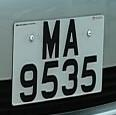3: (61, 58, 83, 98)
5: (39, 59, 63, 101), (79, 54, 100, 95)
9: (18, 60, 43, 104)
A: (62, 17, 82, 61)
M: (39, 16, 63, 62)
